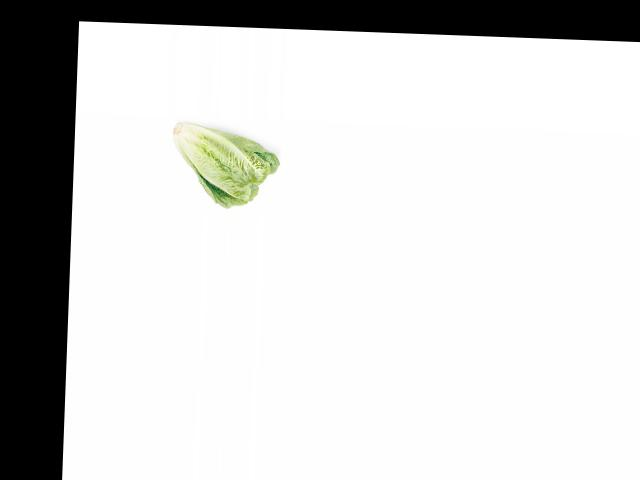lettuce: (162, 118, 280, 208)
